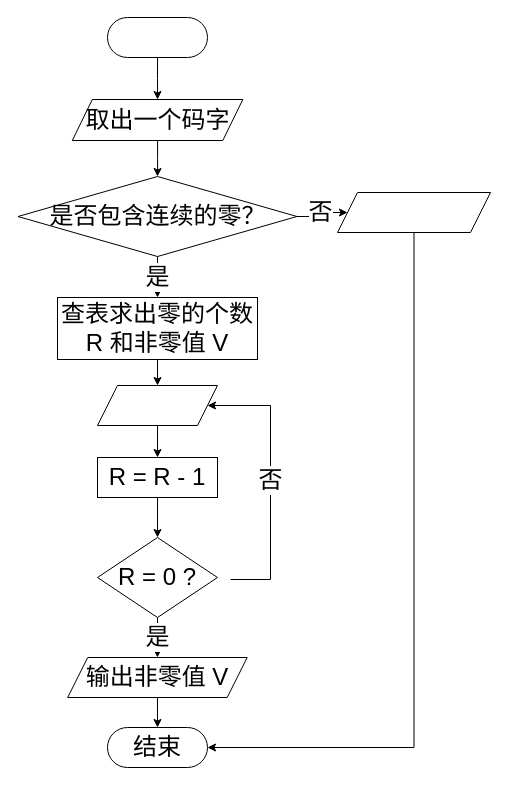
Image size: 508x785. Some labels were removed from this diagram. The centre of each missing label's shape, as x and y in pixels:
开始: (x=157, y=37)
输出原码字: (x=413, y=212)
输出零: (x=157, y=405)
